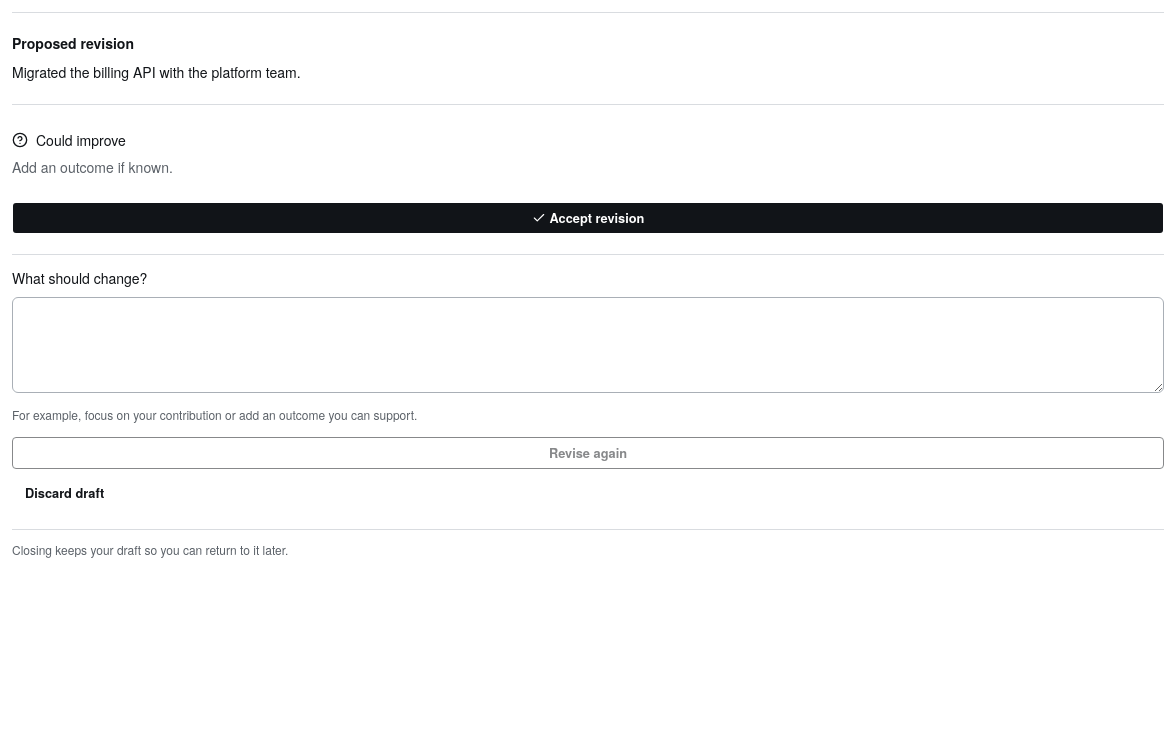
opens saved work and accepts only its server-owned proposal
This screenshot has width=1176, height=732.
Expected: the text "Migrated the billing API with the platform team." is shown, [12,62,301,82]
Step 1. Click the button "Accept revision" → coordinates (588, 218), box [12,202,1164,234]
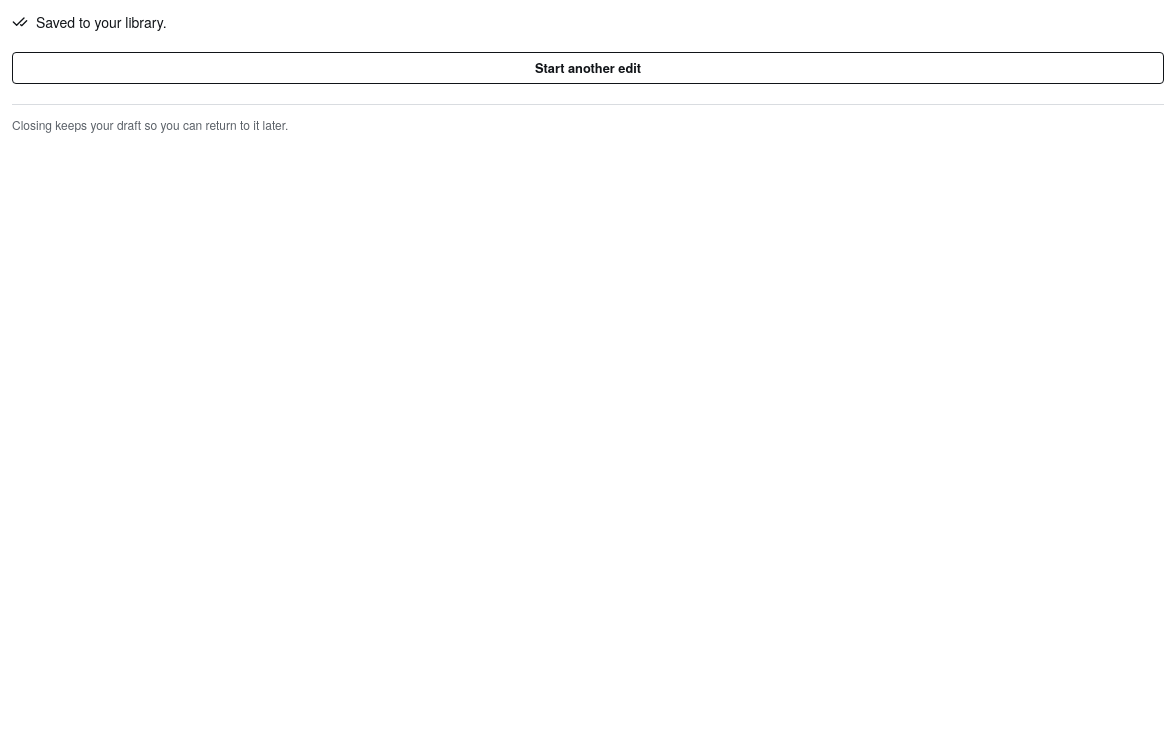
Now the text "Saved to your library." is shown, box [12,12,167,32]
